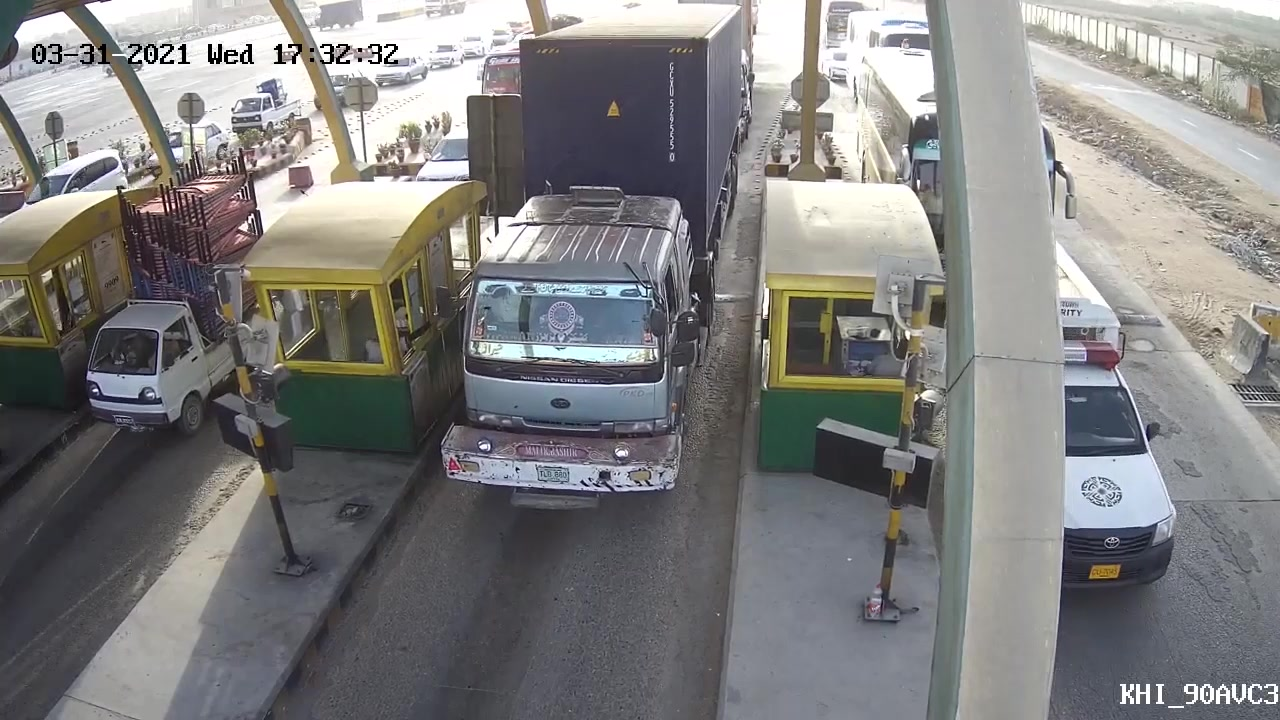F5: (437, 34, 725, 524)
